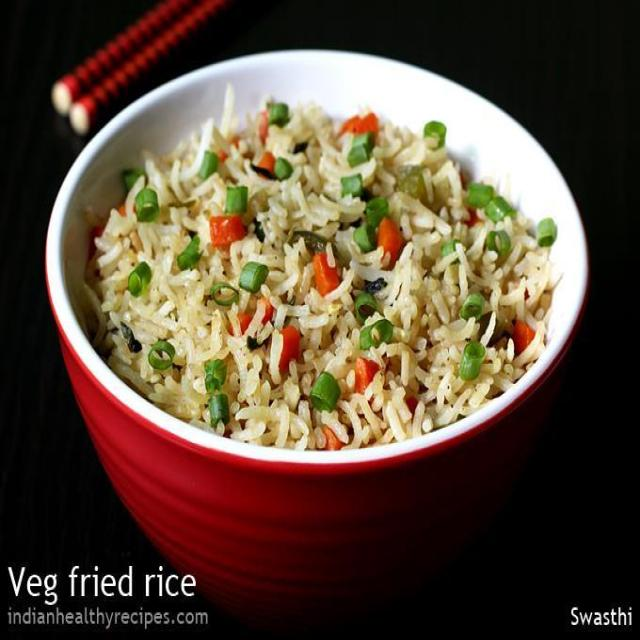Nasi Goreng: (84, 84, 560, 451)
